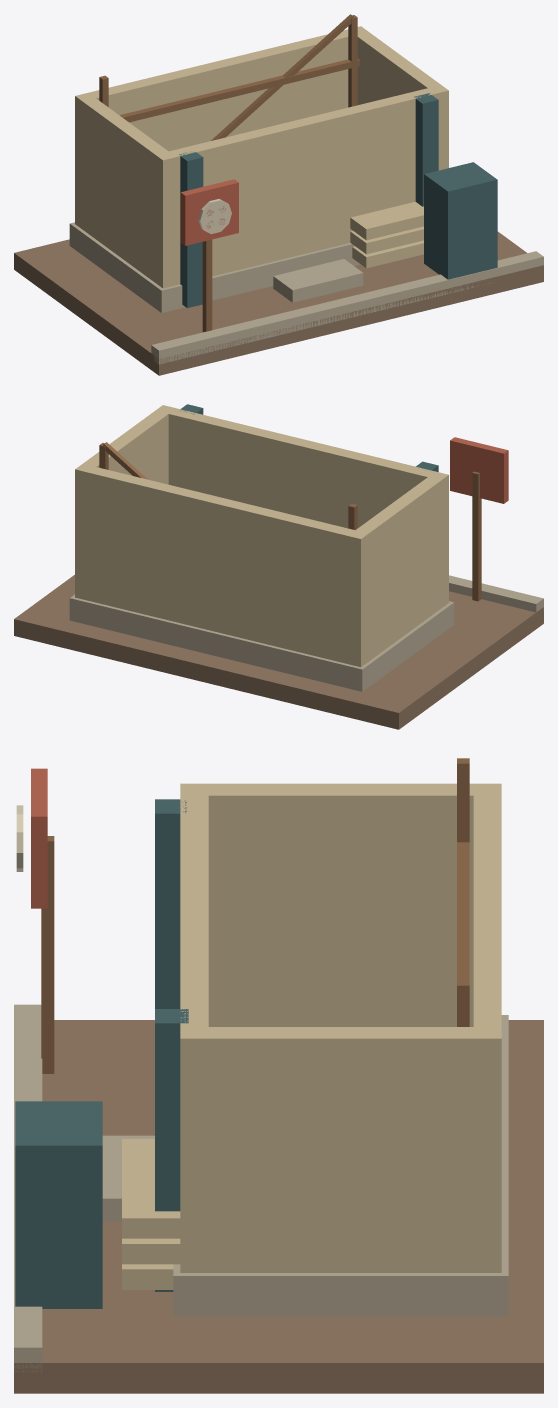
The model's file is cinema-sunrise-half-built.glb.
3 views of the same model, one above another, from view 1: azimuth 30°, elevation 25°; view 2: azimuth 150°, elevation 25°; view 3: azimuth 270°, elevation 25° (orthographic). The views are drawn at different scales.
Parts seen in each view (by area): view 1: cinema; view 2: cinema; view 3: cinema.
Boxes of the visible parts, bbox=[...] form: cinema: bbox=[14, 14, 543, 375]; cinema: bbox=[14, 404, 543, 729]; cinema: bbox=[14, 758, 543, 1393].
Size of the model in its own units: 2.88 by 1.38 by 1.88.
